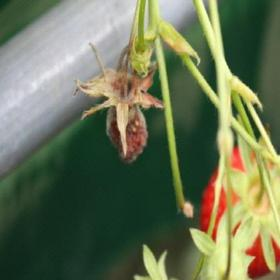Gray Mold: (72, 43, 166, 164)
